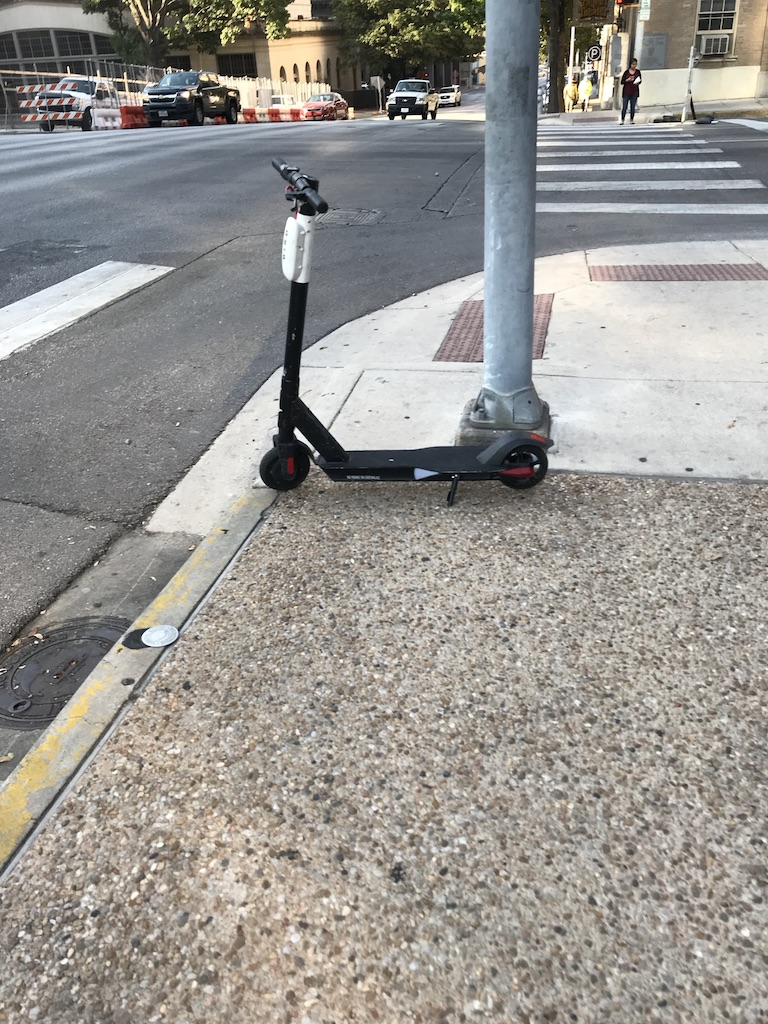scooter: (259, 159, 555, 495)
